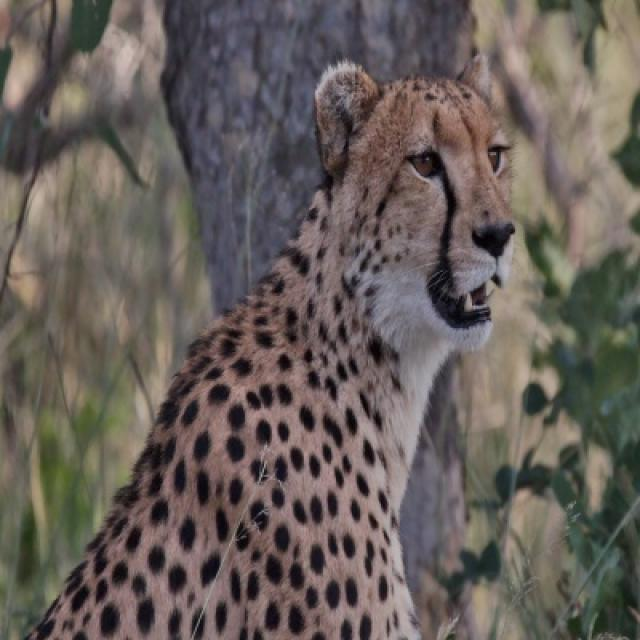Cheetah: (27, 54, 514, 637)
